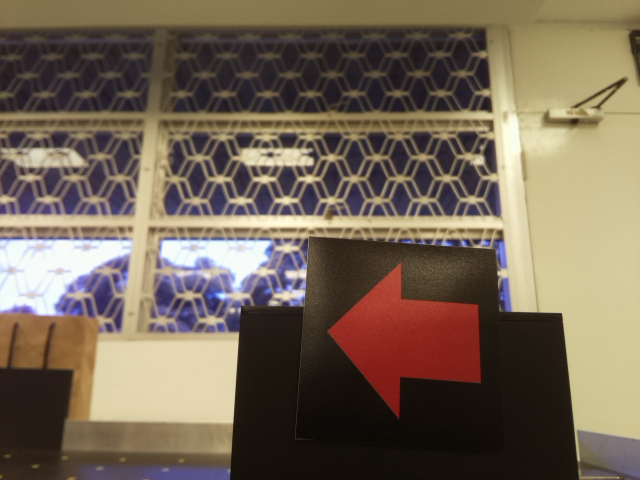left: (317, 251, 491, 422)
